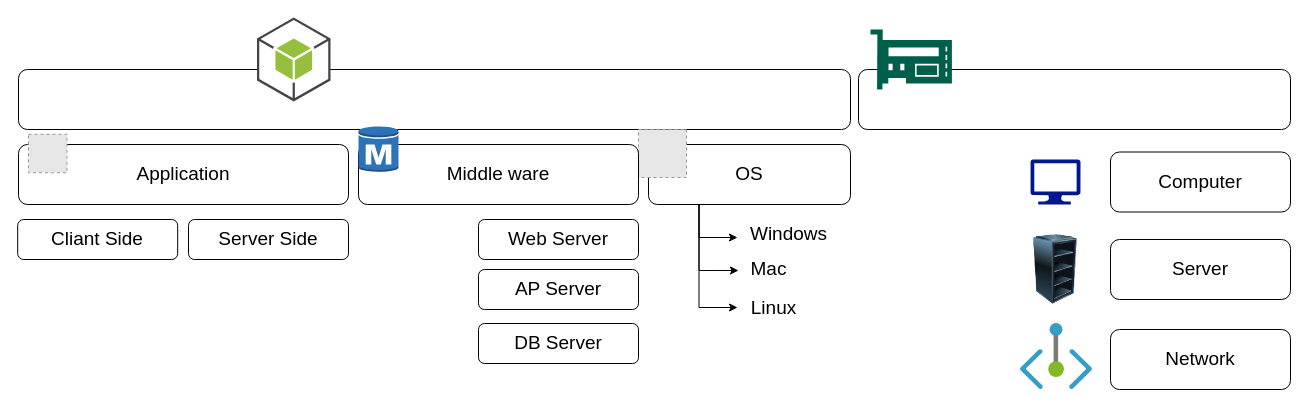
The diagram is 1308 pixels wide and 407 high, and some of its shapes have lost their labels. Grey dashed boxes stand in for pictures. Here are the shapes that lost their labels. From the top down, the centre of each, then its label:
[434,99]: software
[1074,99]: hardware
